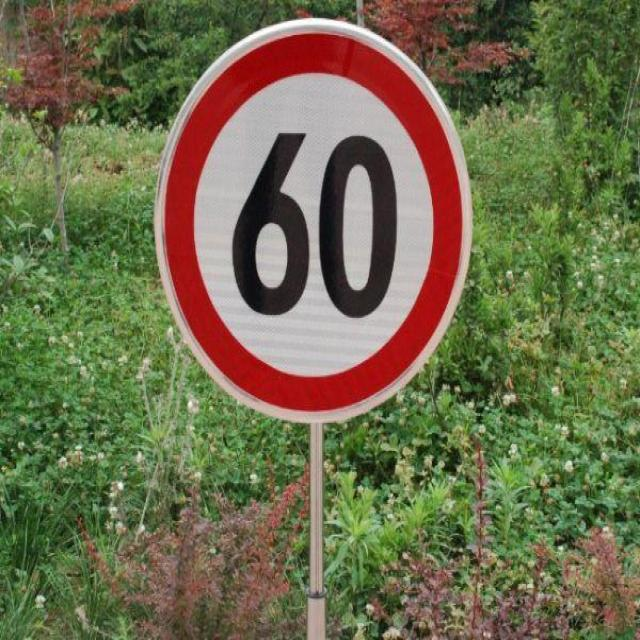speed limit 60: (155, 18, 474, 425)
